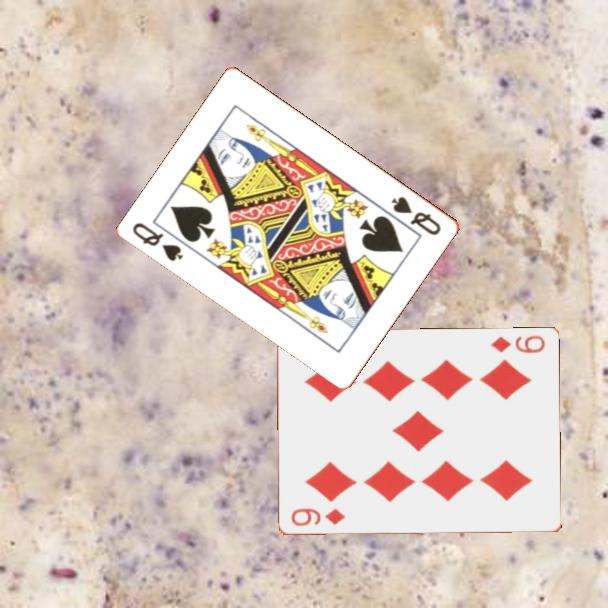d09: (287, 505, 347, 530), (487, 332, 548, 356)
s12: (129, 219, 187, 264), (388, 192, 444, 238)
